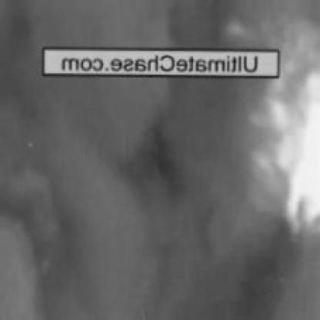Fire: (263, 51, 319, 232)
Smoke: (23, 4, 273, 310)
